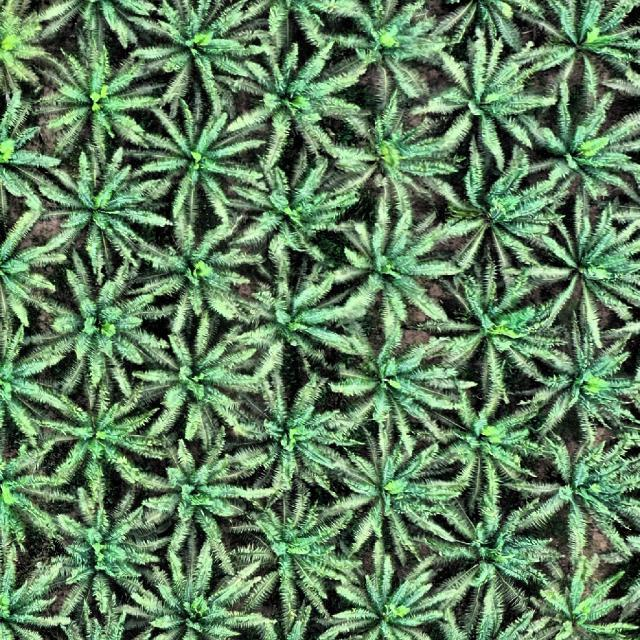Kelapa_Sawit: (228, 386, 350, 492), (512, 100, 633, 205), (422, 396, 533, 506), (140, 331, 250, 439), (230, 498, 340, 606), (434, 504, 554, 600), (49, 283, 160, 386), (232, 268, 342, 370), (330, 448, 442, 548), (448, 284, 548, 394), (139, 215, 245, 318), (342, 342, 453, 440), (146, 453, 248, 558), (39, 158, 149, 255), (336, 222, 439, 325), (446, 176, 548, 278), (538, 210, 634, 318), (526, 444, 624, 547), (242, 41, 339, 145), (56, 394, 153, 498), (245, 174, 350, 270), (134, 125, 246, 214), (45, 511, 150, 605), (426, 59, 534, 150), (137, 565, 264, 640), (539, 338, 631, 436), (60, 56, 152, 153), (348, 114, 444, 206), (536, 3, 640, 86), (153, 9, 247, 94), (332, 564, 434, 640), (346, 14, 434, 89), (536, 575, 624, 640), (44, 3, 156, 49), (0, 440, 44, 554), (0, 561, 59, 640), (0, 214, 38, 327), (0, 0, 39, 106), (0, 328, 34, 442), (0, 111, 27, 216)
